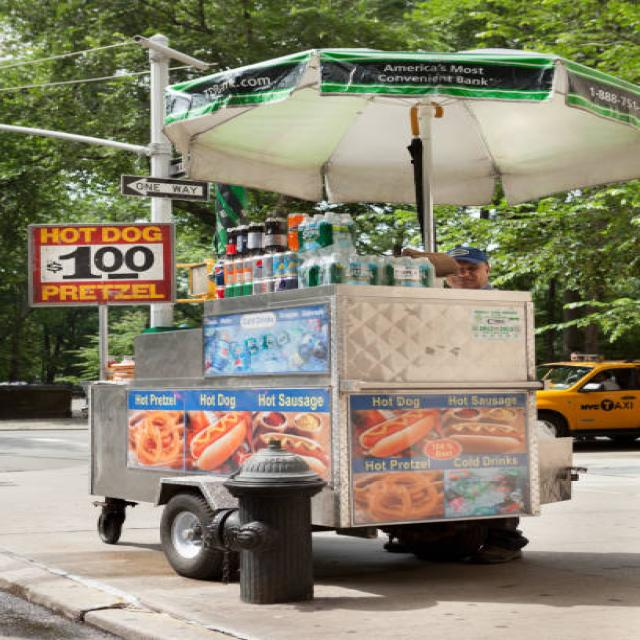Emperan: (22, 33, 640, 619)
